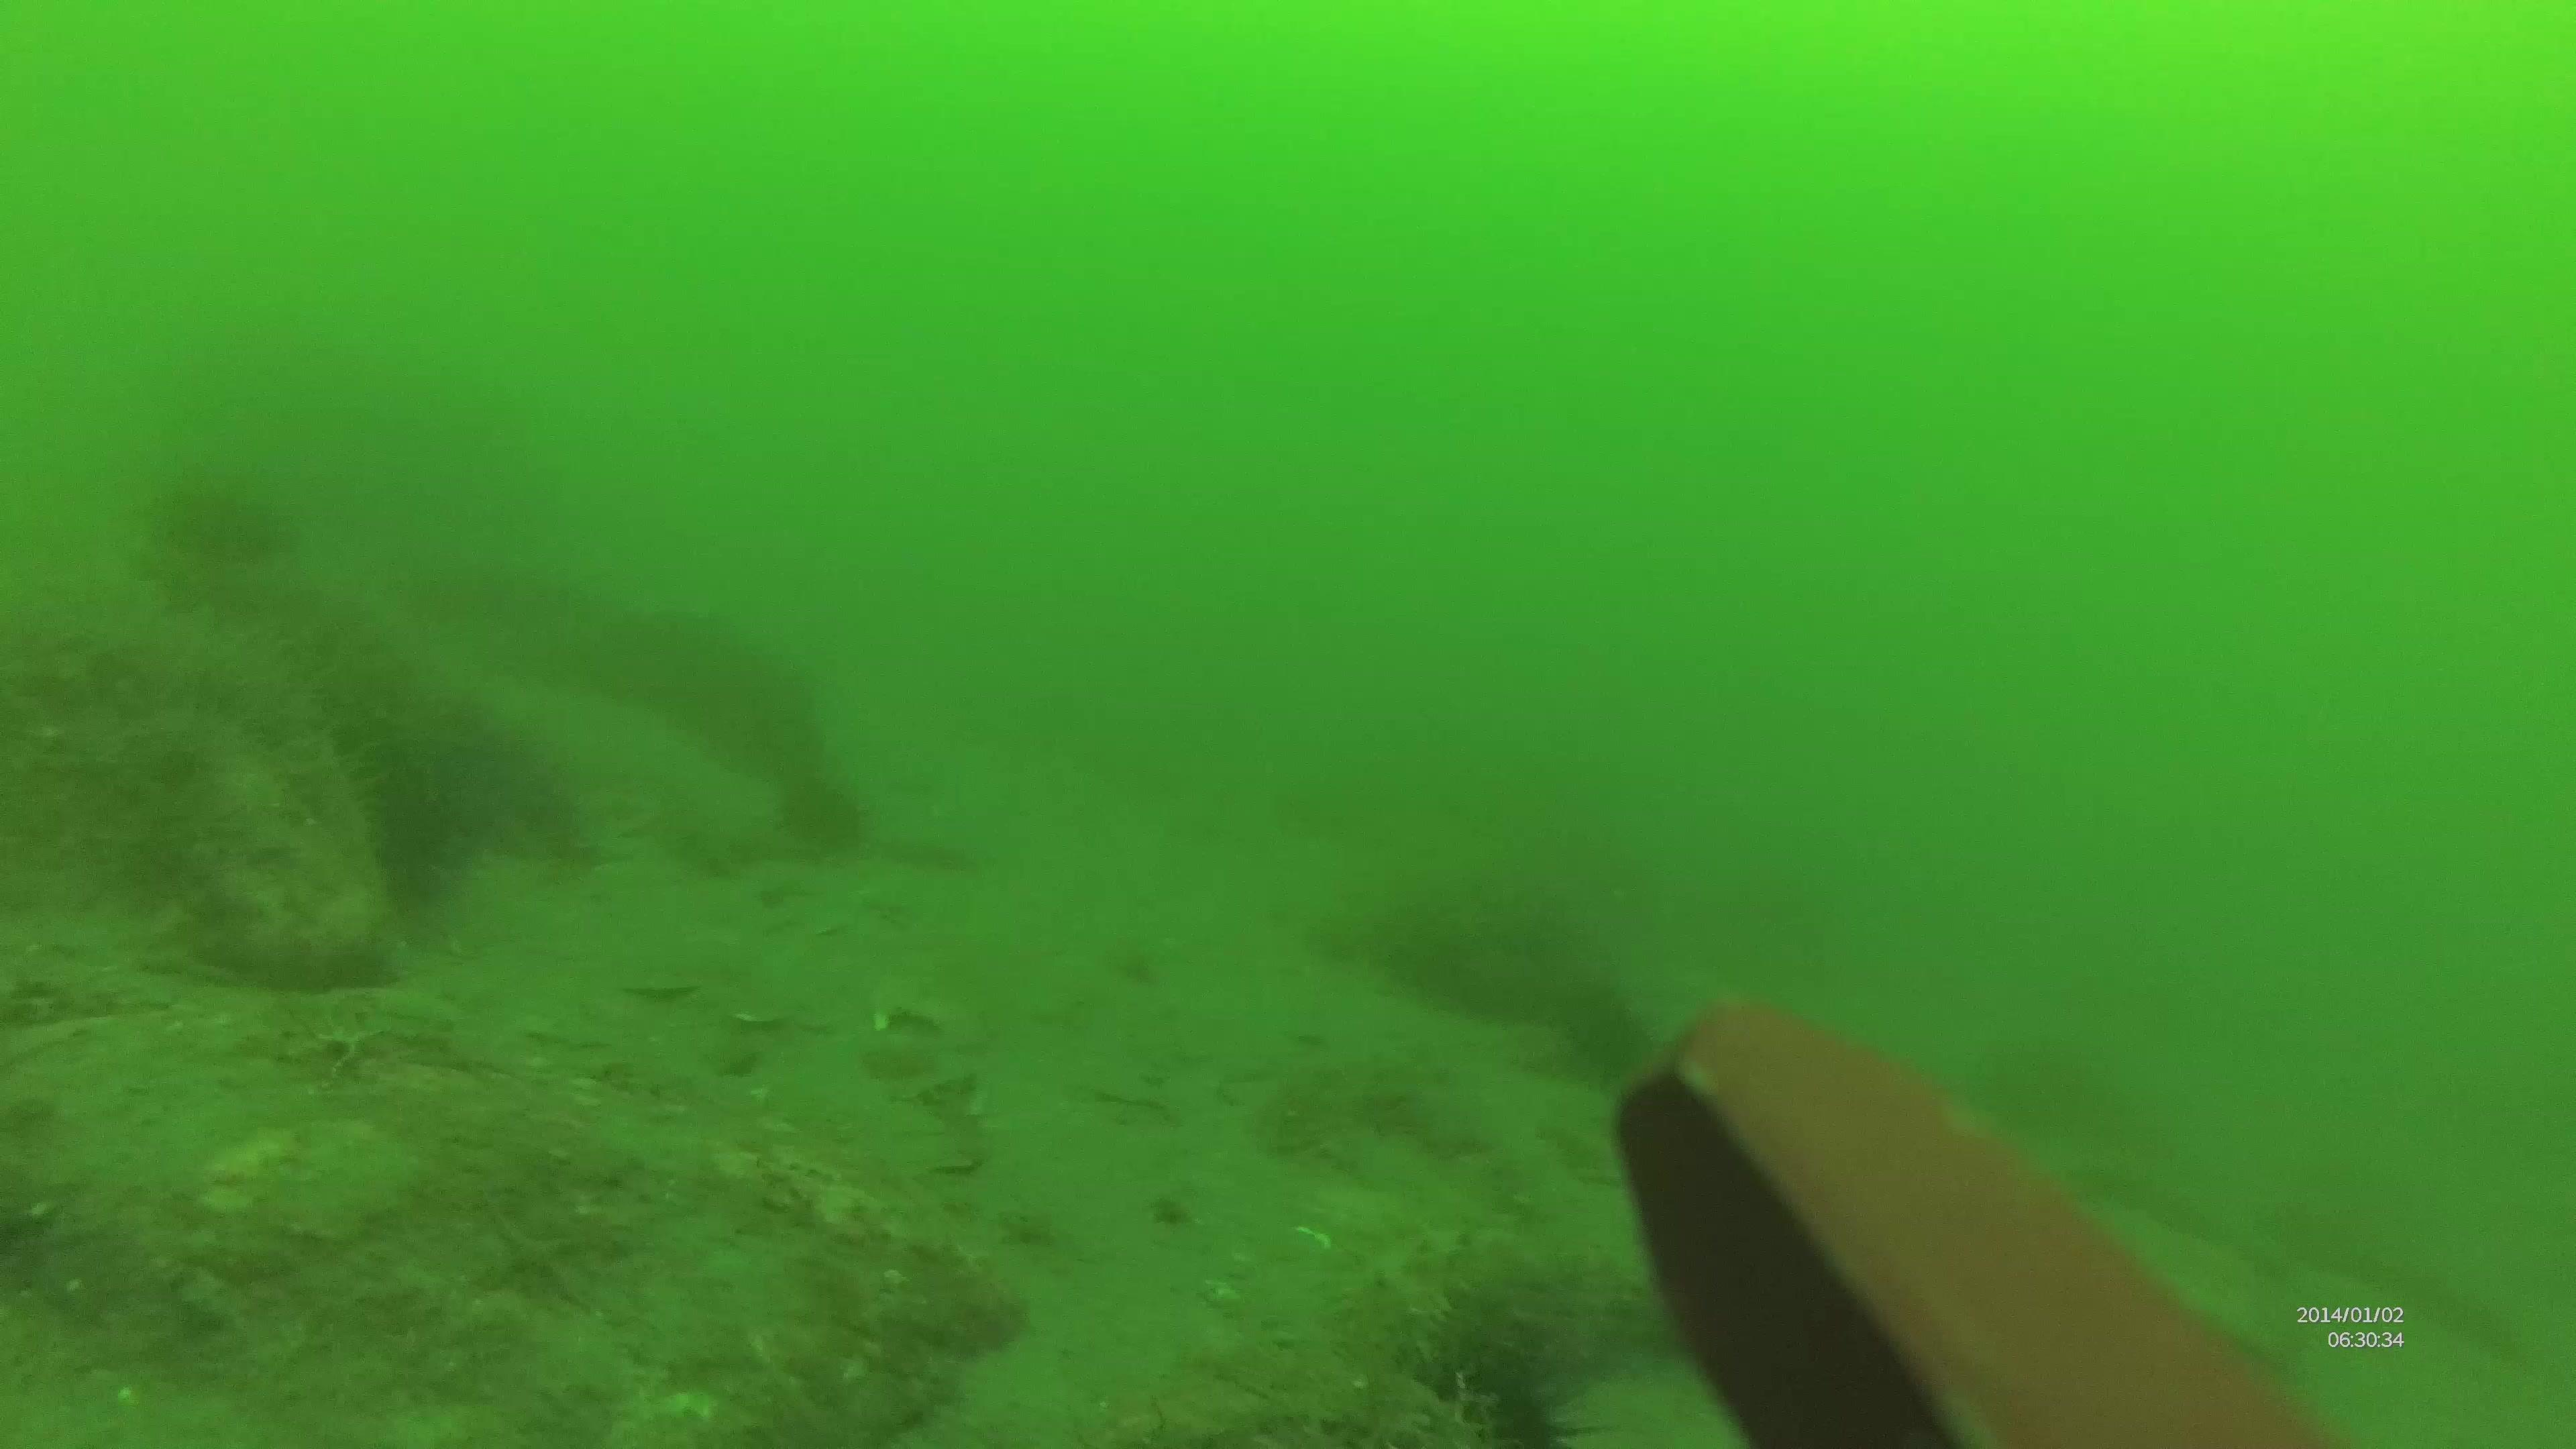echinus: (1389, 1338, 1599, 1449)
